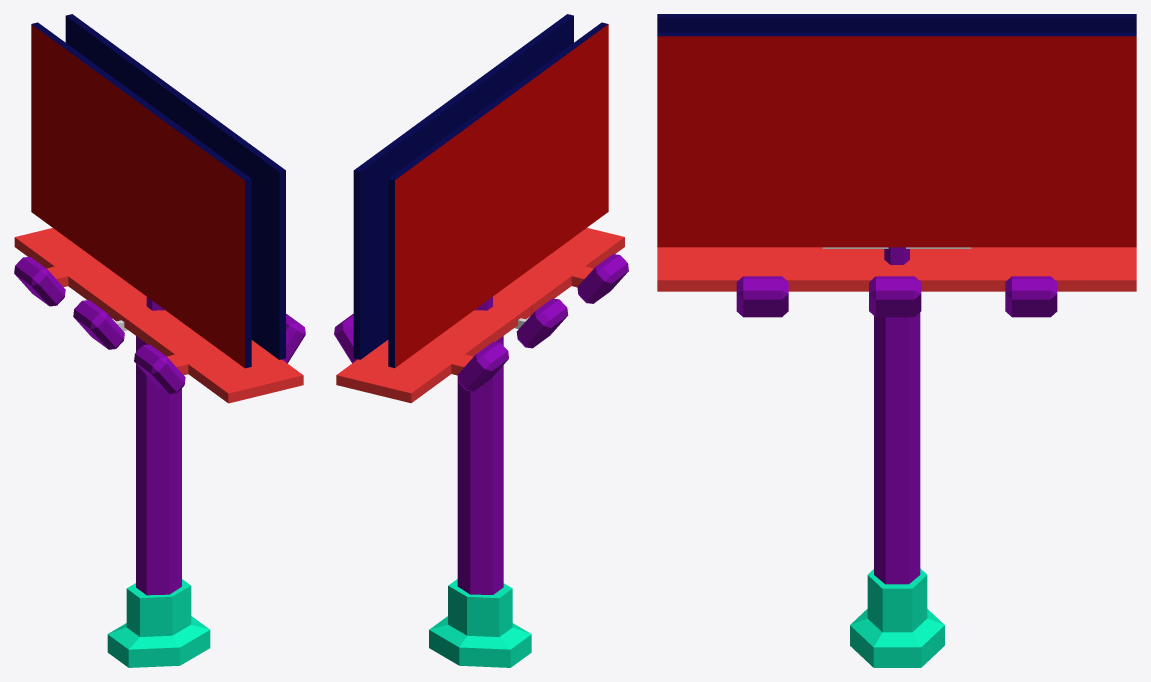
The model's file is billboard.fbx.
The picture shows the model from 3 angles, left to right: view 1: azimuth 30°, elevation 25°; view 2: azimuth 150°, elevation 25°; view 3: azimuth 270°, elevation 25°; orthographic projection. The views are drawn at different scales.
Parts seen in each view (by area): view 1: Cube.004, Cube.002, Cube.001, Cube, Cube.009, Cube.008; view 2: Cube.004, Cube.002, Cube.001, Cube, Cube.009, Cube.008; view 3: Cube.004, Cube.002, Cube.001, Cube, Cube.008.
Boxes of the visible parts, x1,y1,x2,y2 form: Cube.004: (31,14,285,368); Cube.002: (14,228,303,403); Cube.001: (136,297,181,595); Cube: (107,579,210,667); Cube.009: (14,256,185,394); Cube.008: (282,314,305,363); Cube.004: (353,14,608,368); Cube.002: (336,228,624,403); Cube.001: (457,297,503,594); Cube: (429,579,531,667); Cube.009: (457,254,628,391); Cube.008: (334,314,357,363); Cube.004: (657,14,1136,247); Cube.002: (657,247,1136,291); Cube.001: (874,247,920,584); Cube: (850,568,944,667); Cube.008: (736,276,1057,317).
Size of the model in its own units: 108 by 366 by 256.
